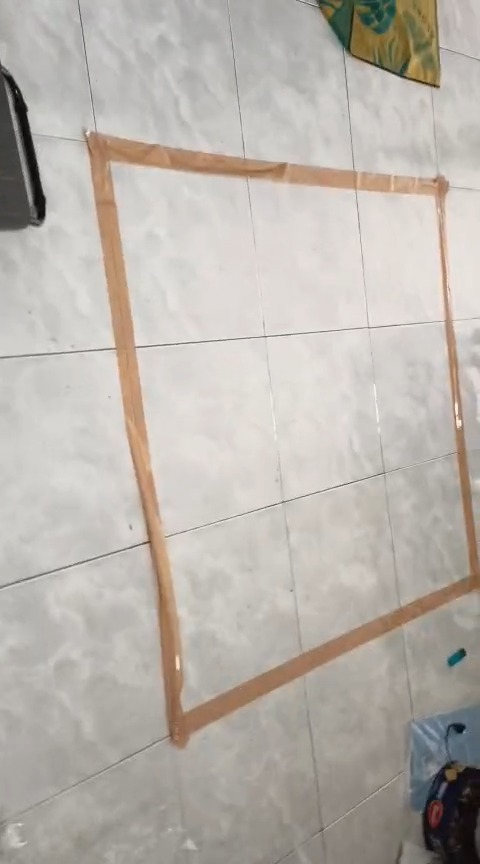floor marking: (86, 132, 479, 746)
